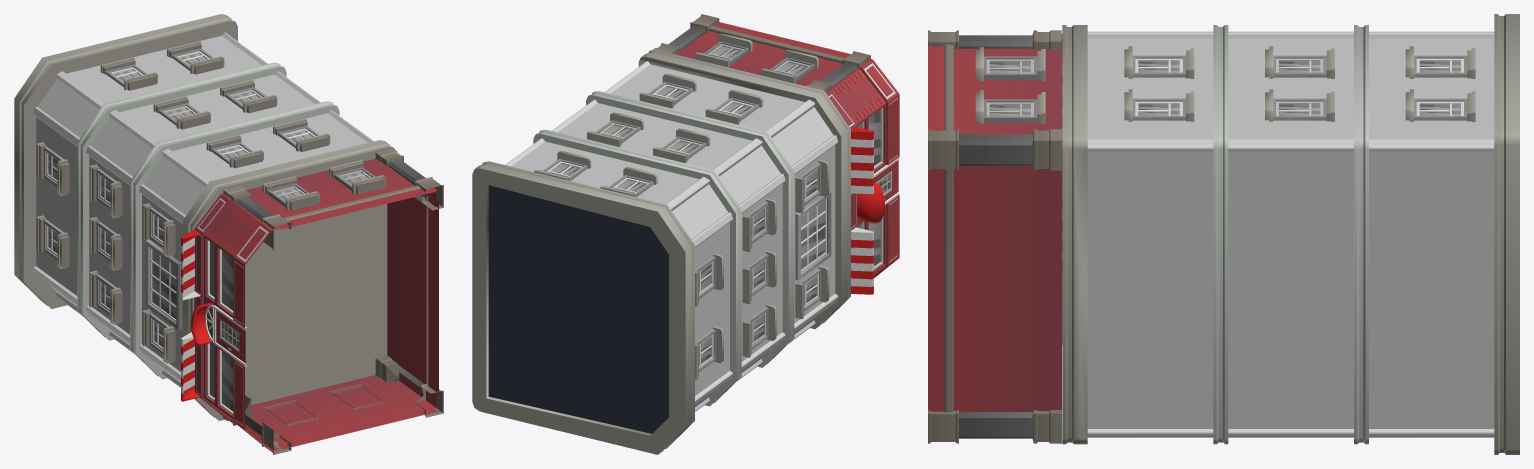
The model's file is Building_3_3_F.fbx.
3 renders of one model, left to right at view 1: azimuth 30°, elevation 25°; view 2: azimuth 150°, elevation 25°; view 3: azimuth 270°, elevation 25°, orthographic. The views are drawn at different scales.
Parts seen in each view (by area): view 1: Building 3_3_F; view 2: Building 3_3_F; view 3: Building 3_3_F.
Part boxes in pixels (<box>): Building 3_3_F: <box>14,14,443,454</box>; Building 3_3_F: <box>472,14,899,454</box>; Building 3_3_F: <box>928,14,1519,454</box>.
Size of the model in its own units: 808 by 837 by 1383.
